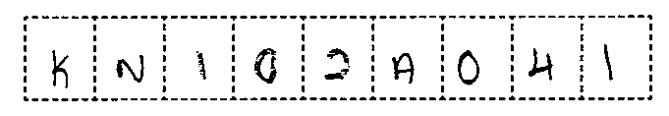0: (249, 41, 286, 88), (451, 43, 487, 89)
1: (594, 40, 624, 85), (186, 45, 218, 86)
2: (316, 42, 355, 84)
4: (520, 44, 562, 86)
A: (387, 48, 423, 88)
K: (43, 46, 76, 92)
N: (110, 50, 151, 88)
